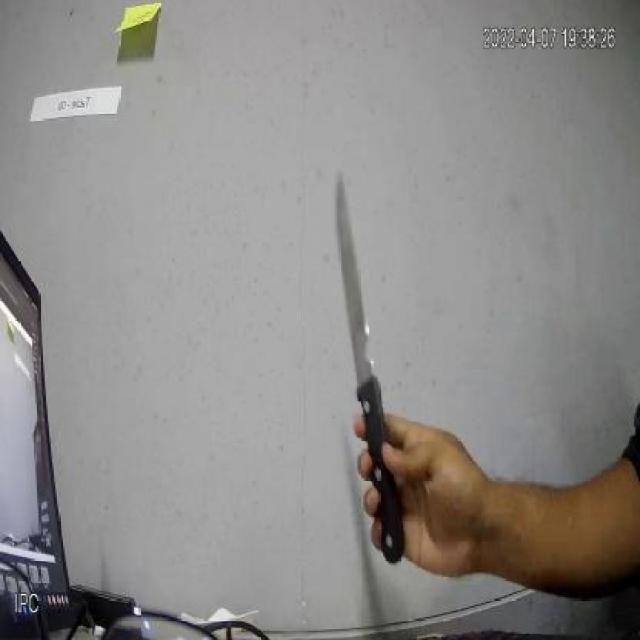-: (329, 165, 422, 568)
